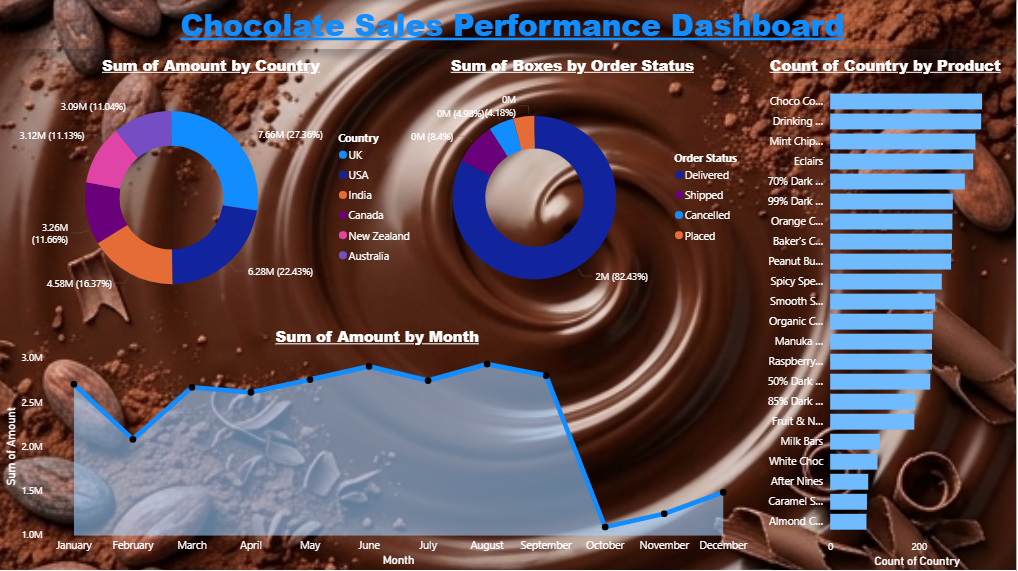

The page's visual inventory and layout, read from the dashboard file:
{"tool":"powerbi","page":{"name":"page 02","canvas":[1280,720],"ordinal":1},"visuals":[{"type":"textbox","box":[9.4,0,1271.8,62.4],"z":0},{"type":"donutChart","fields":{"Category":["data.Country"],"Y":["Sum(data.Amount)"]},"box":[0,62.4,531,342],"z":1000},{"type":"barChart","fields":{"Category":["data.Product"],"Y":["CountNonNull(data.Country)"]},"box":[951.2,62,329.3,658.5],"z":2000},{"type":"lineChart","fields":{"Category":["data.Date.Variation.Date Hierarchy.Year","data.Date.Variation.Date Hierarchy.Quarter","data.Date.Variation.Date Hierarchy.Month","data.Date.Variation.Date Hierarchy.Day"],"Y":["Sum(data.Amount)"]},"box":[0,404.4,950.6,315.6],"z":3000},{"type":"donutChart","fields":{"Category":["data.Order Status"],"Y":["Sum(data.Boxes)"]},"box":[491.3,62.4,459.2,342],"z":4000}]}

Visuals, with their boxes in screenshot pixels (x1, y1, x2, y2), scaled from the page's 1280x720 canvas onto the 1018x571 screenshot:
textbox: {"x1": 7, "y1": 0, "x2": 1017, "y2": 49}
donutChart - data.Country x Sum(data.Amount): {"x1": 0, "y1": 49, "x2": 422, "y2": 321}
barChart - data.Product x CountNonNull(data.Country): {"x1": 757, "y1": 49, "x2": 1017, "y2": 570}
lineChart - data.Date.Variation.Date Hierarchy.Year x data.Date.Variation.Date Hierarchy.Quarter: {"x1": 0, "y1": 321, "x2": 756, "y2": 570}
donutChart - data.Order Status x Sum(data.Boxes): {"x1": 391, "y1": 49, "x2": 756, "y2": 321}
